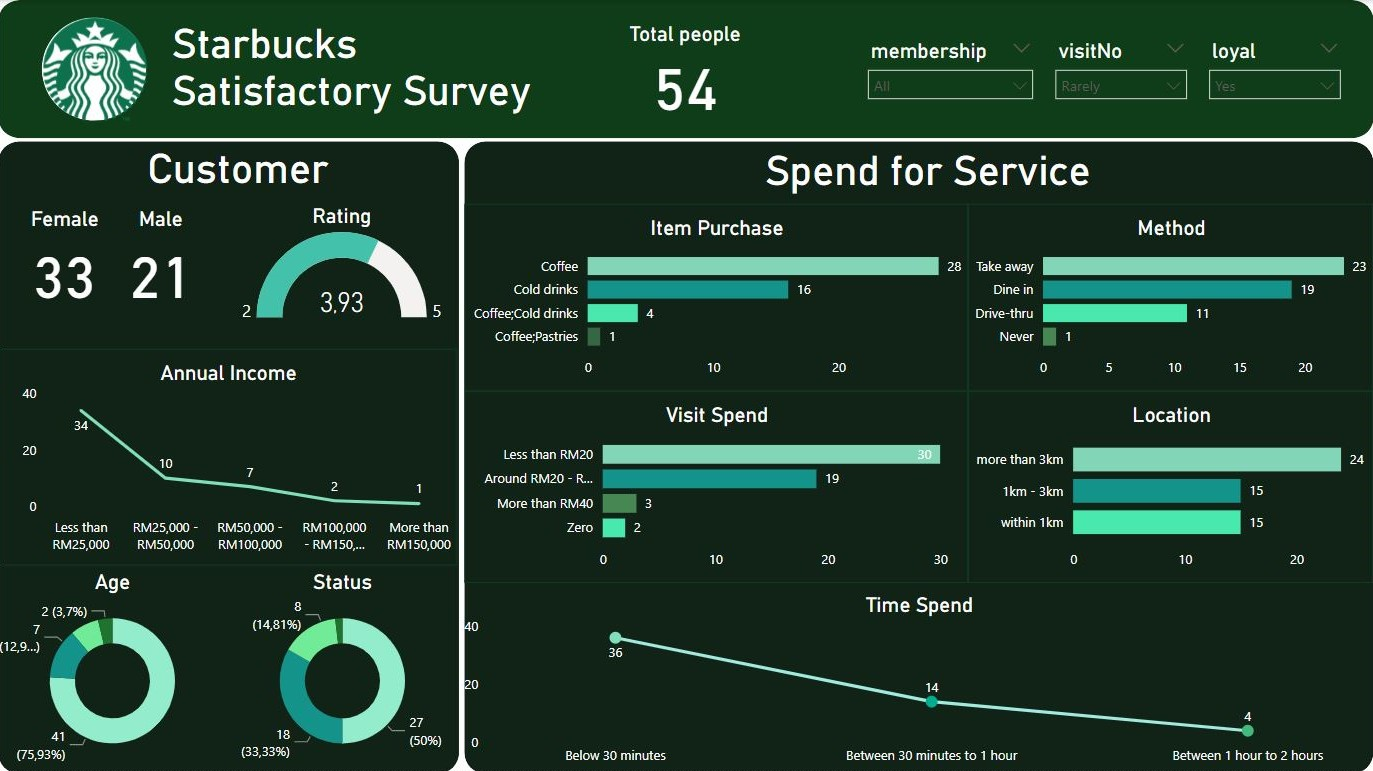

What the dashboard file says about the page in this screenshot:
{"tool":"powerbi","page":{"name":"survey","canvas":[1280,720],"ordinal":0},"visuals":[{"type":"shape","box":[0,0,1280,128.6],"z":0},{"type":"shape","box":[0,131.4,429,588.6],"z":1000},{"type":"donutChart","title":"Status","fields":{"Category":["starbucks.status"],"Y":["CountNonNull(starbucks.status)"]},"box":[214.3,525.7,212.9,194.3],"z":2000},{"type":"donutChart","title":"Age","fields":{"Category":["starbucks.age"],"Y":["CountNonNull(starbucks.age)"]},"box":[0,525.7,212.9,194.3],"z":3000},{"type":"gauge","title":"Rating","fields":{"Y":["Avg(starbucks.sales-promoteDecision)"],"MinValue":["Min(starbucks.serviceRate)"],"MaxValue":["Max(starbucks.ambianceRate)"]},"box":[212.9,190,214.3,115.7],"z":4000},{"type":"card","title":"Total people","fields":{"Values":["CountNonNull(starbucks.age)"]},"box":[570,21.4,138.6,90],"z":5000},{"type":"slicer","fields":{"Values":["starbucks.loyal"]},"box":[1115.7,31.4,142.9,71.4],"z":6000},{"type":"slicer","fields":{"Values":["starbucks.membershipCard"]},"box":[798.6,31.4,174.3,71.4],"z":7000},{"type":"textbox","box":[157.1,12.9,377.1,107.1],"z":8000},{"type":"shape","box":[37.1,12.9,104.3,102.9],"z":9000},{"type":"simpleImageEBC4593F96F1425FB3D84C5BF02B5075","fields":{"imageURL":["logo (2).img"]},"box":[37.1,11.4,114.3,107.1],"z":10000},{"type":"slicer","fields":{"Values":["starbucks.visitNo"]},"box":[972.9,31.4,142.9,71.4],"z":11000},{"type":"textbox","box":[72.9,128.6,300,61.4],"z":12000},{"type":"card","title":"Female","fields":{"Values":["CountNonNull(starbucks.gender)"]},"box":[18.6,192.9,87.1,95.7],"z":13000},{"type":"card","title":"Male","fields":{"Values":["CountNonNull(starbucks.gender)"]},"box":[105.7,192.9,91.4,95.7],"z":14000},{"type":"shape","box":[18.6,189.5,174.4,98.8],"z":15000},{"type":"lineChart","title":"Annual Income","fields":{"Category":["starbucks.income"],"Y":["CountNonNull(starbucks.income)"]},"box":[0,324.3,427.1,201.4],"z":16000},{"type":"shape","box":[434.3,131.4,845.7,588.6],"z":17000},{"type":"lineChart","title":"Time Spend","fields":{"Category":["starbucks.timeSpend"],"Y":["CountNonNull(starbucks.timeSpend)"]},"box":[433.7,543,846.5,176.7],"z":18000},{"type":"textbox","box":[450,131.4,830,61.4],"z":19000},{"type":"clusteredBarChart","title":"Visit Spend","fields":{"Category":["starbucks.visitSpend"],"Y":["CountNonNull(starbucks.visitSpend)"]},"box":[434.3,364.3,468.6,178.6],"z":20000},{"type":"clusteredBarChart","title":"Item Purchase","fields":{"Category":["starbucks.itemPurchase"],"Y":["CountNonNull(starbucks.itemPurchase)"]},"box":[434.3,190,468.6,174.3],"z":21000},{"type":"clusteredBarChart","title":"Method","fields":{"Y":["CountNonNull(starbucks.method)"],"Category":["starbucks.method"]},"box":[902.9,190,377.1,174.3],"z":22000},{"type":"clusteredBarChart","title":"Location","fields":{"Category":["starbucks.location"],"Y":["CountNonNull(starbucks.location)"]},"box":[902.9,364.3,377.1,178.6],"z":23000}]}

Visuals, with their boxes in screenshot pixels (x1, y1, x2, y2), scaled from the page's 1280x720 canvas onto the 1373x771 screenshot:
shape: [x1=0, y1=0, x2=1372, y2=138]
shape: [x1=0, y1=141, x2=460, y2=770]
"Status" donutChart: [x1=230, y1=563, x2=458, y2=770]
"Age" donutChart: [x1=0, y1=563, x2=228, y2=770]
"Rating" gauge: [x1=228, y1=203, x2=458, y2=327]
"Total people" card: [x1=611, y1=23, x2=760, y2=119]
slicer - starbucks.loyal: [x1=1197, y1=34, x2=1350, y2=110]
slicer - starbucks.membershipCard: [x1=857, y1=34, x2=1044, y2=110]
textbox: [x1=169, y1=14, x2=573, y2=128]
shape: [x1=40, y1=14, x2=152, y2=124]
simpleImageEBC4593F96F1425FB3D84C5BF02B5075 - logo (2).img: [x1=40, y1=12, x2=162, y2=127]
slicer - starbucks.visitNo: [x1=1044, y1=34, x2=1197, y2=110]
textbox: [x1=78, y1=138, x2=400, y2=203]
"Female" card: [x1=20, y1=207, x2=113, y2=309]
"Male" card: [x1=113, y1=207, x2=211, y2=309]
shape: [x1=20, y1=203, x2=207, y2=309]
"Annual Income" lineChart: [x1=0, y1=347, x2=458, y2=563]
shape: [x1=466, y1=141, x2=1372, y2=770]
"Time Spend" lineChart: [x1=465, y1=581, x2=1372, y2=770]
textbox: [x1=483, y1=141, x2=1372, y2=206]
"Visit Spend" clusteredBarChart: [x1=466, y1=390, x2=969, y2=581]
"Item Purchase" clusteredBarChart: [x1=466, y1=203, x2=969, y2=390]
"Method" clusteredBarChart: [x1=969, y1=203, x2=1372, y2=390]
"Location" clusteredBarChart: [x1=969, y1=390, x2=1372, y2=581]
